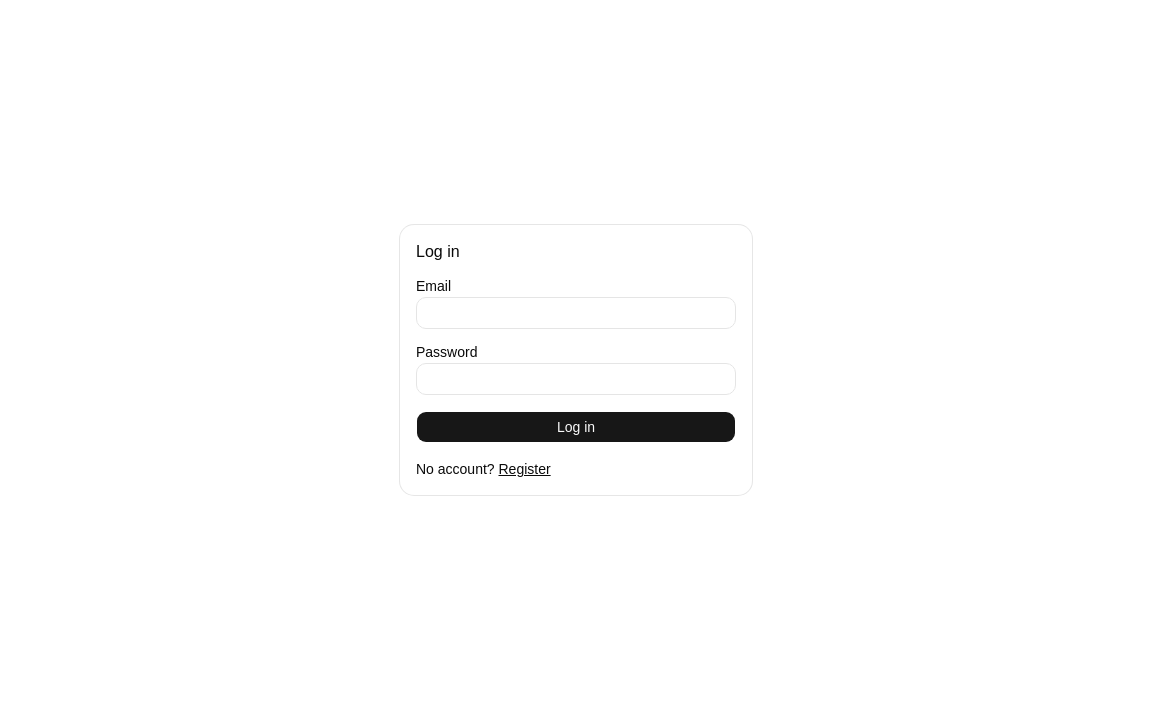
Test: auth flow › logs in, stores token, and shows the home page
The image size is (1152, 720).
Type "a@b.com" into the field labelled "Email" at (576, 313), box [416, 297, 736, 329]
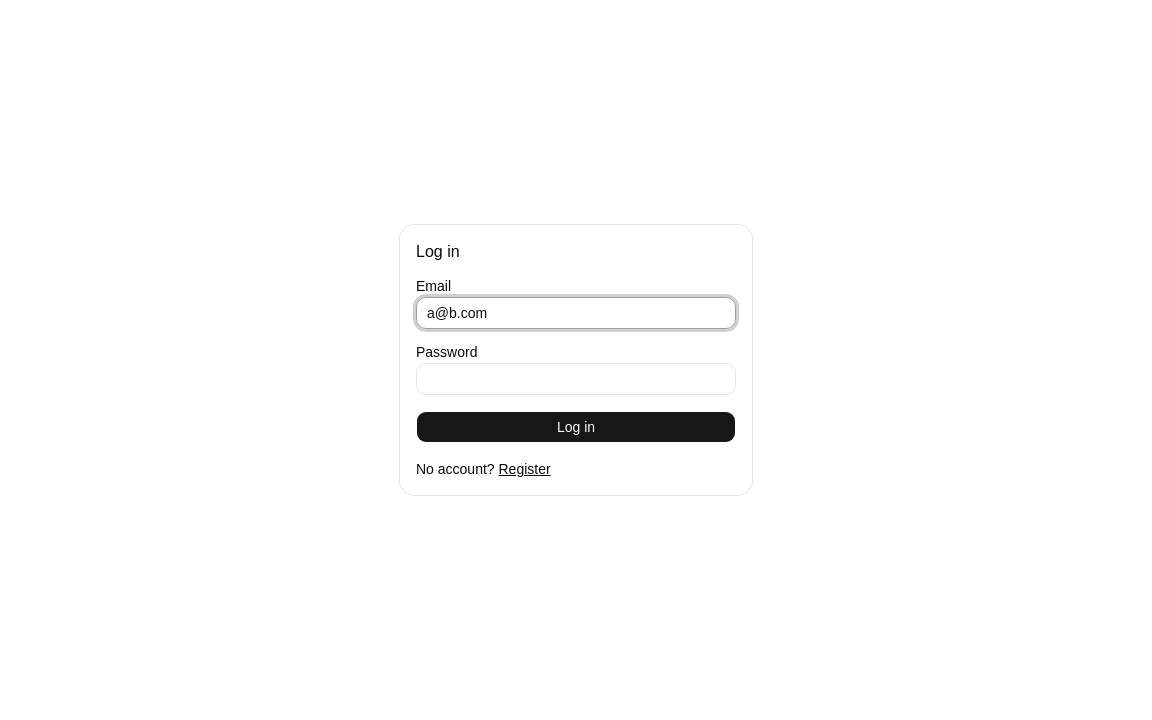
Type "password1" into the password field labelled "Password" at (576, 379), box [416, 363, 736, 395]
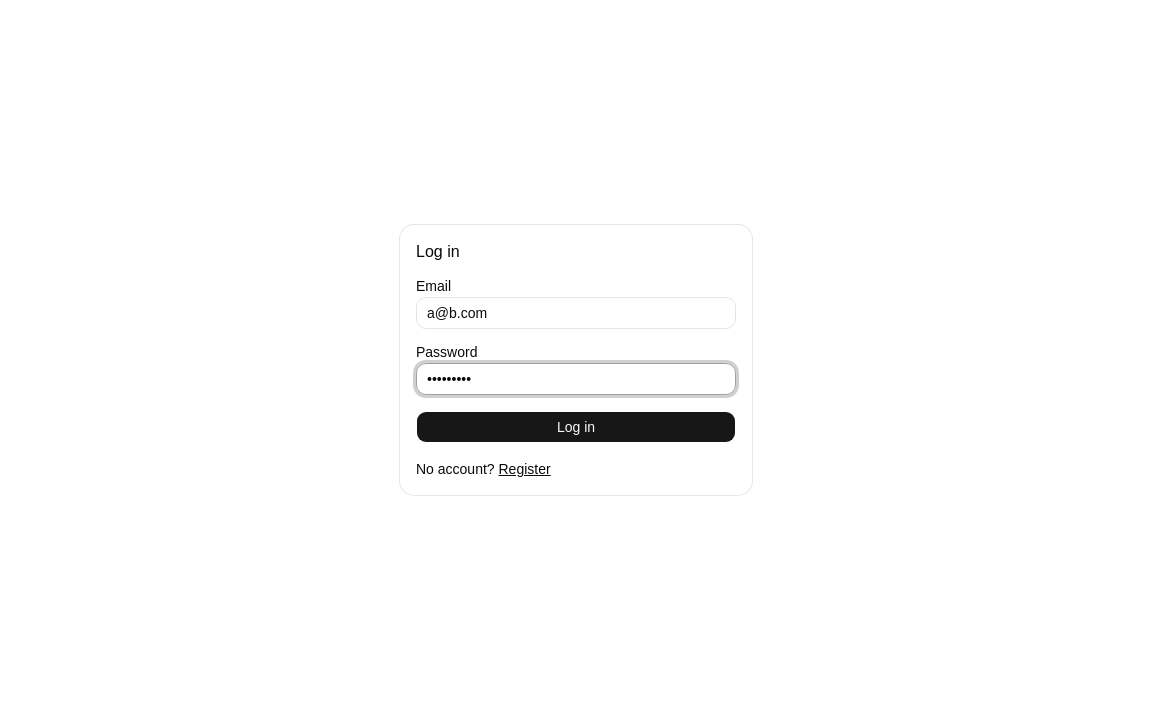
Click the button "Log in" at (576, 427), box [416, 411, 736, 443]
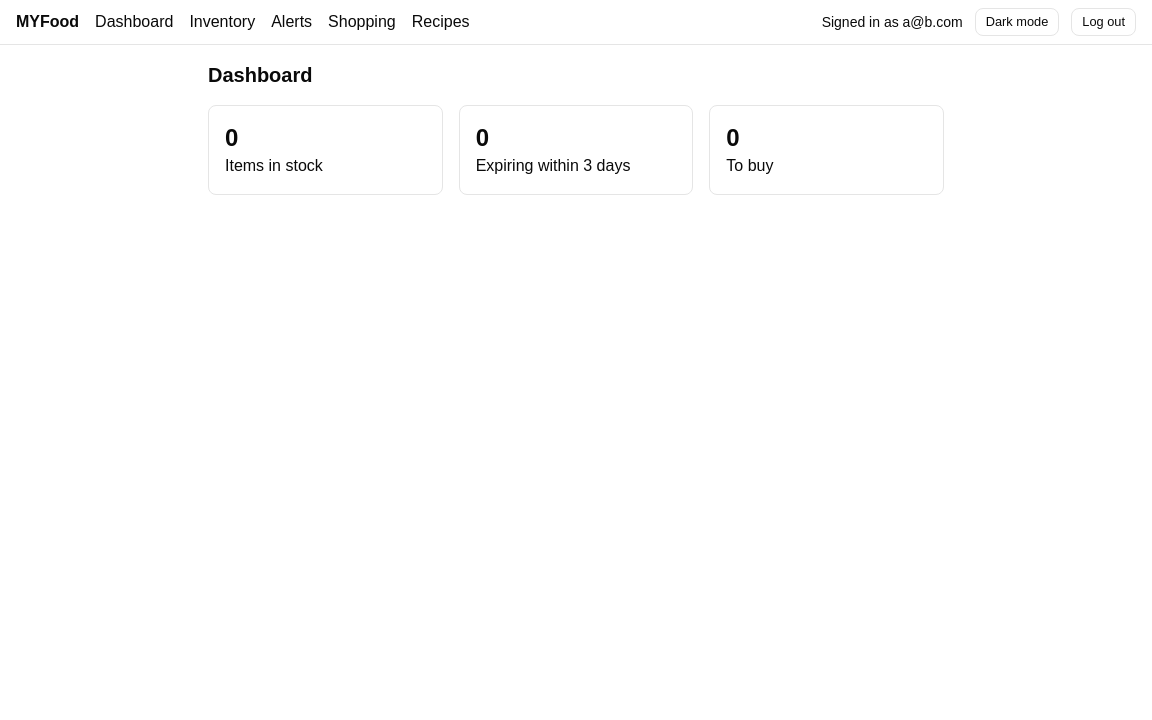
Now the text "Signed in as a@b.com" is shown, box [822, 12, 963, 32]
